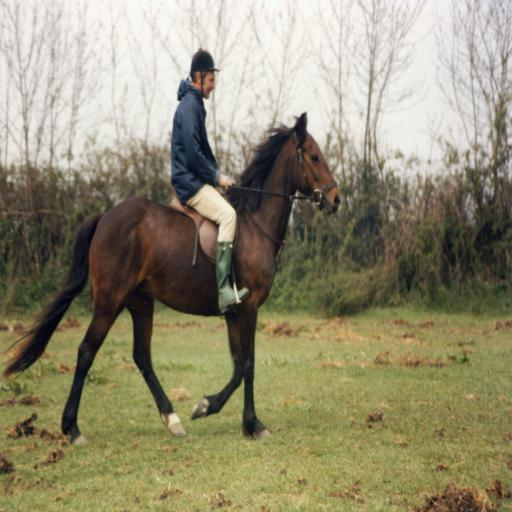horse: (0, 110, 342, 440)
